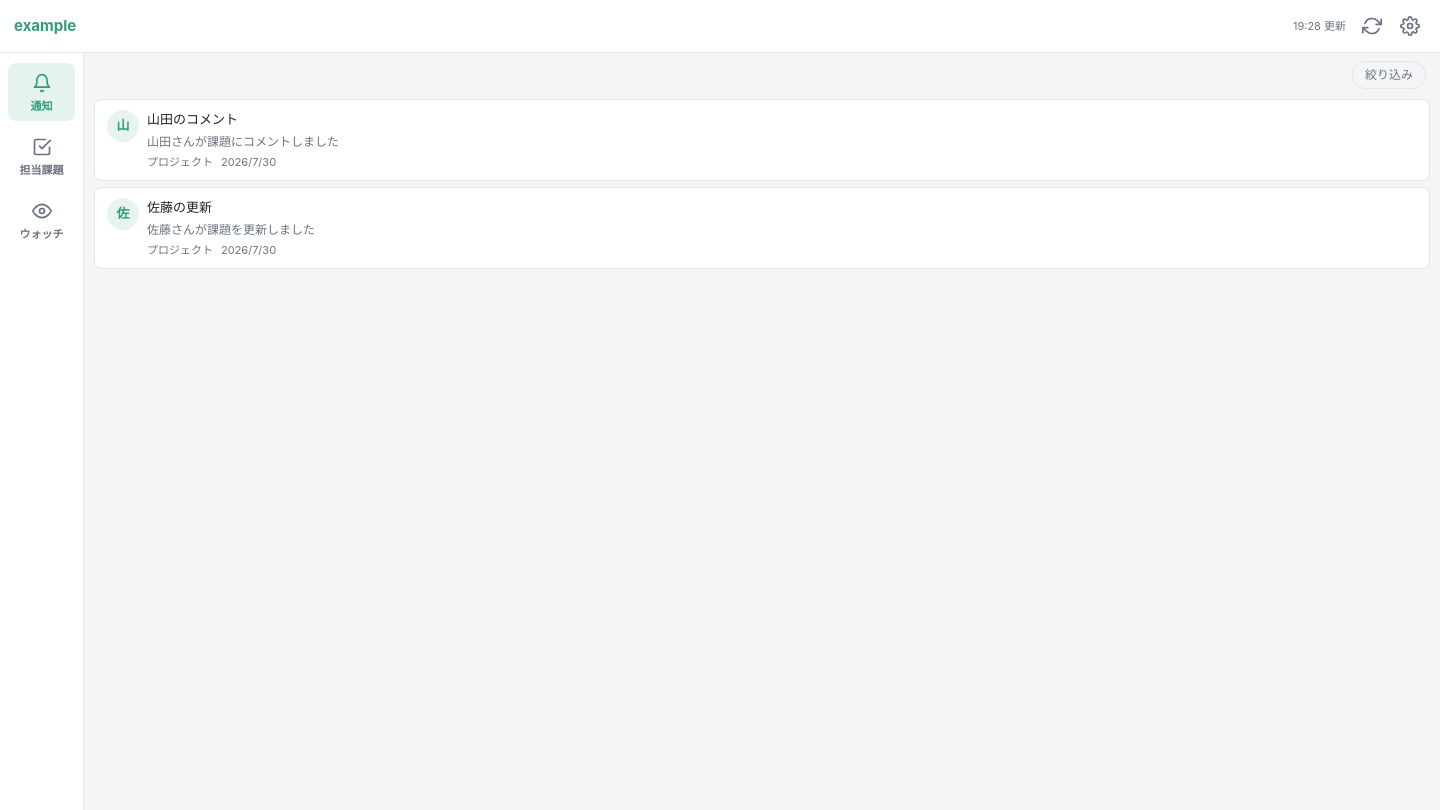
Test case: App の通知の絞り込み › 種別で絞ると他の種別の通知が消える
Click the button "絞り込み" at (1389, 75), box [1352, 61, 1426, 89]
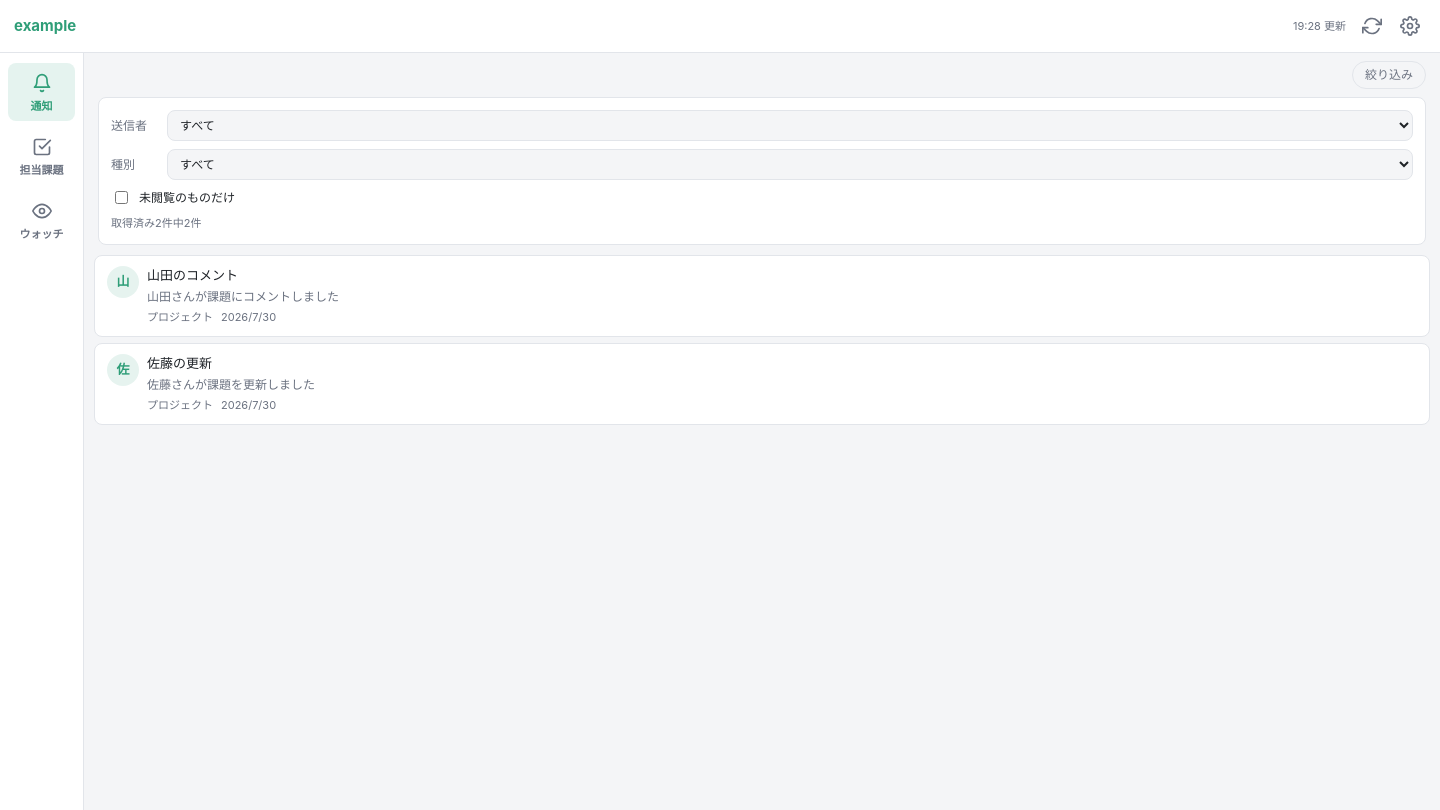
Select "課題にコメントしました" in the dropdown labelled "種別" at (790, 164), box [167, 149, 1413, 180]
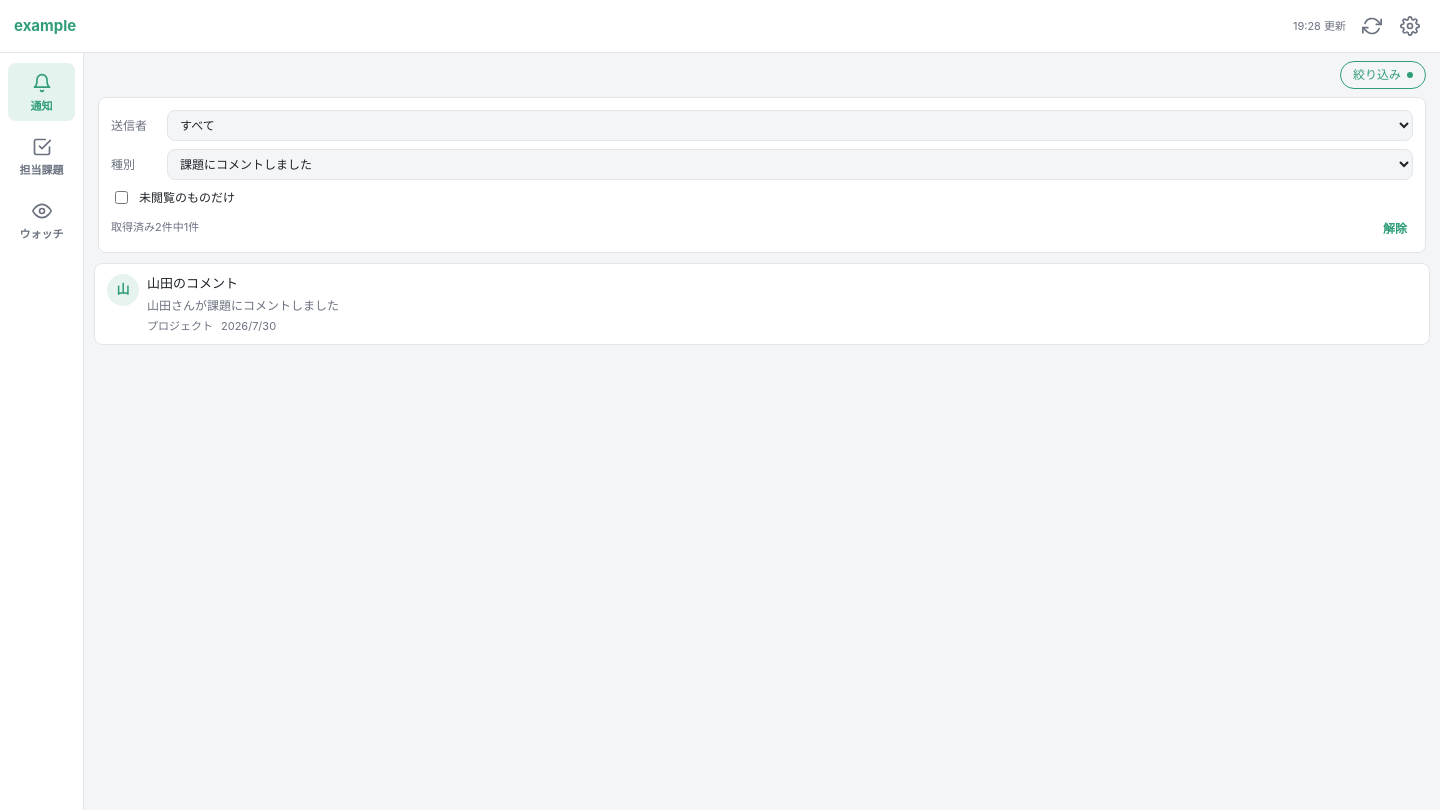
Expected: the text "山田のコメント" is shown, [147, 275, 238, 291]
Expected: the button "佐藤の更新" is gone
